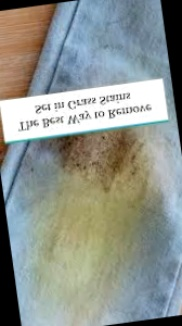earth: (19, 128, 168, 297)
